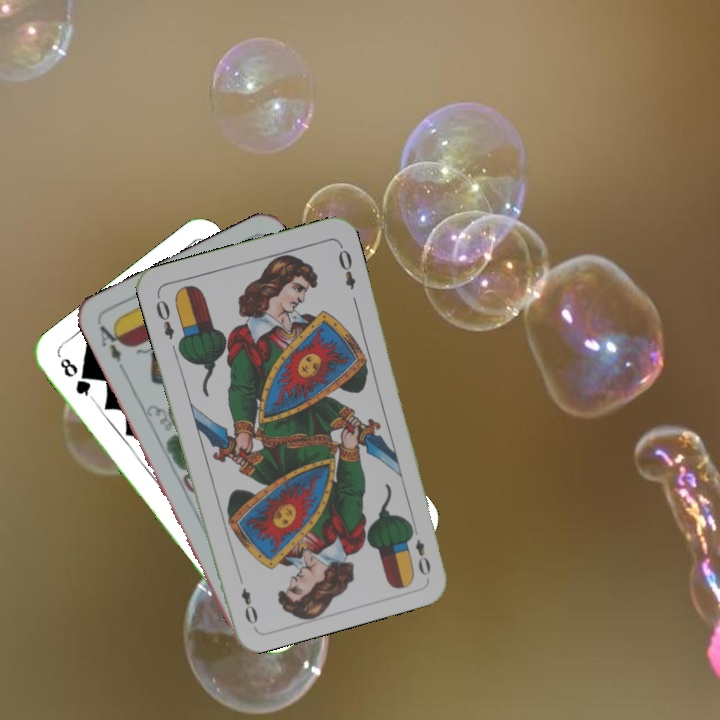EA: (95, 319, 128, 374)
EO: (406, 521, 433, 578), (152, 291, 177, 342)
G8: (55, 354, 96, 402)
